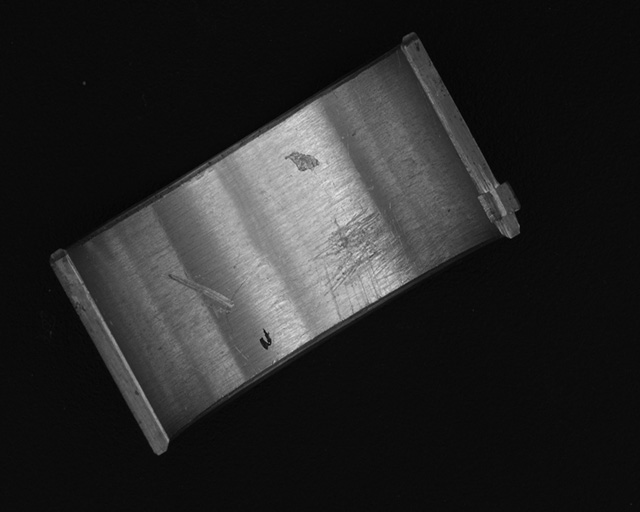blot: (259, 328, 273, 351)
bruise: (284, 151, 321, 173)
nick: (230, 280, 262, 377), (168, 273, 235, 312)
scratch: (311, 202, 443, 323)
